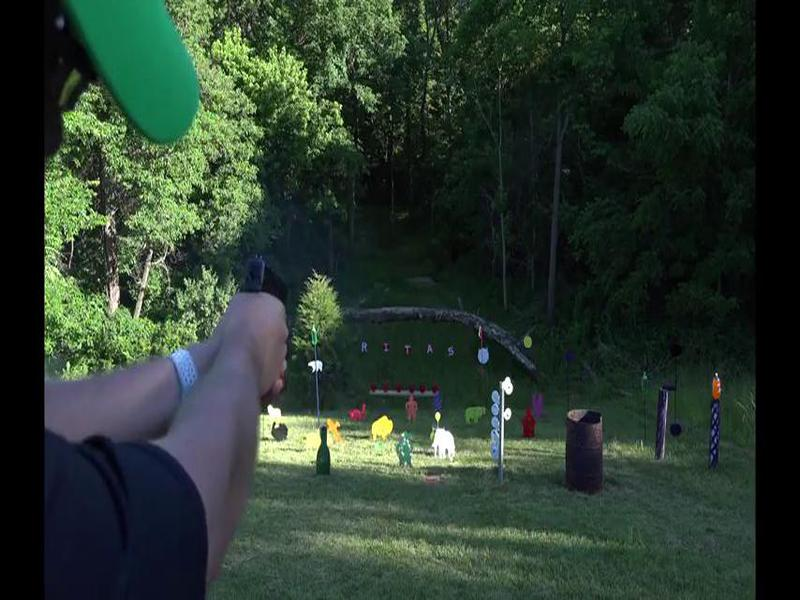Pistola: (222, 249, 298, 332)
